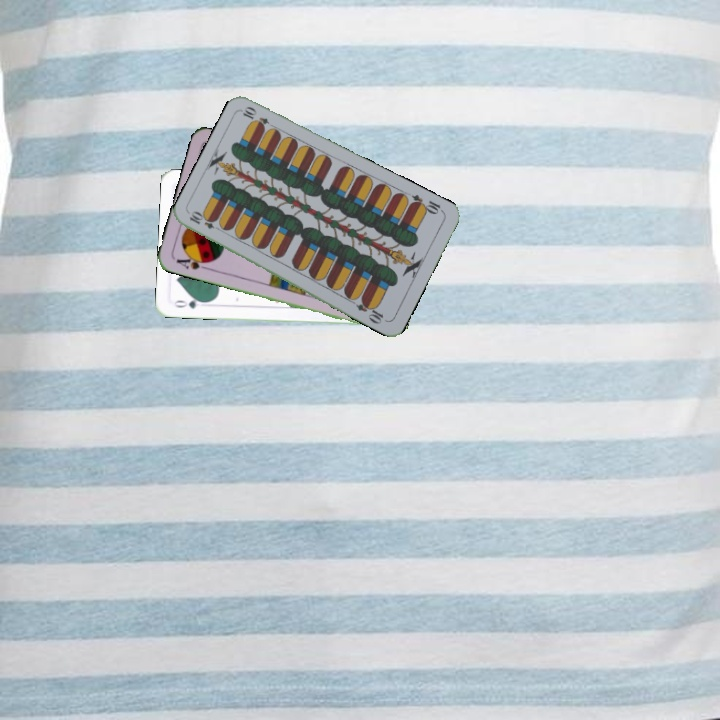E10: (406, 190, 446, 217), (185, 208, 225, 234)
GO: (170, 294, 210, 311)
SA: (172, 251, 213, 272)
